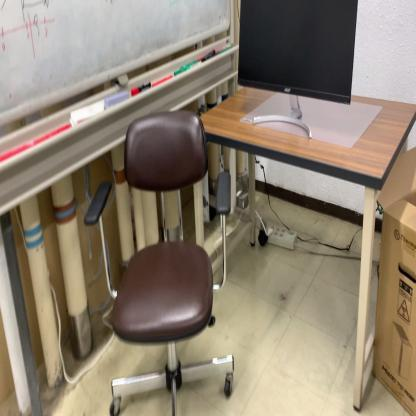chair: (84, 112, 237, 416)
